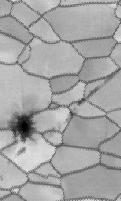good_void: (6, 112, 41, 152), (63, 117, 70, 123)
